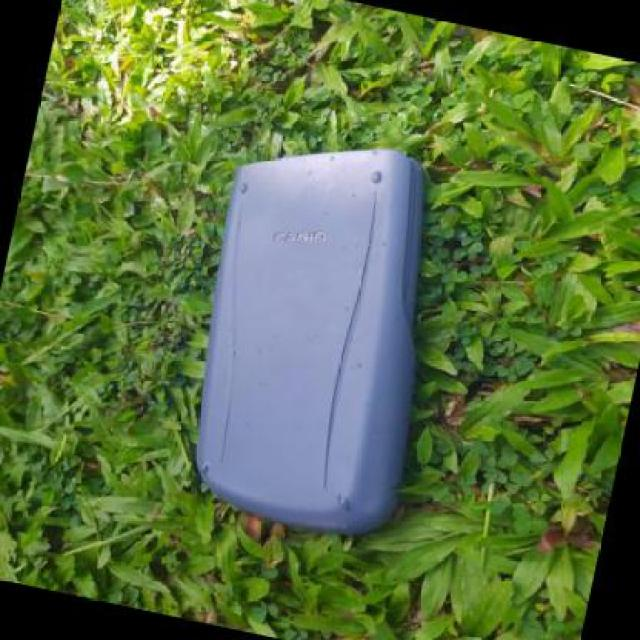Calculator: (156, 109, 478, 548)
